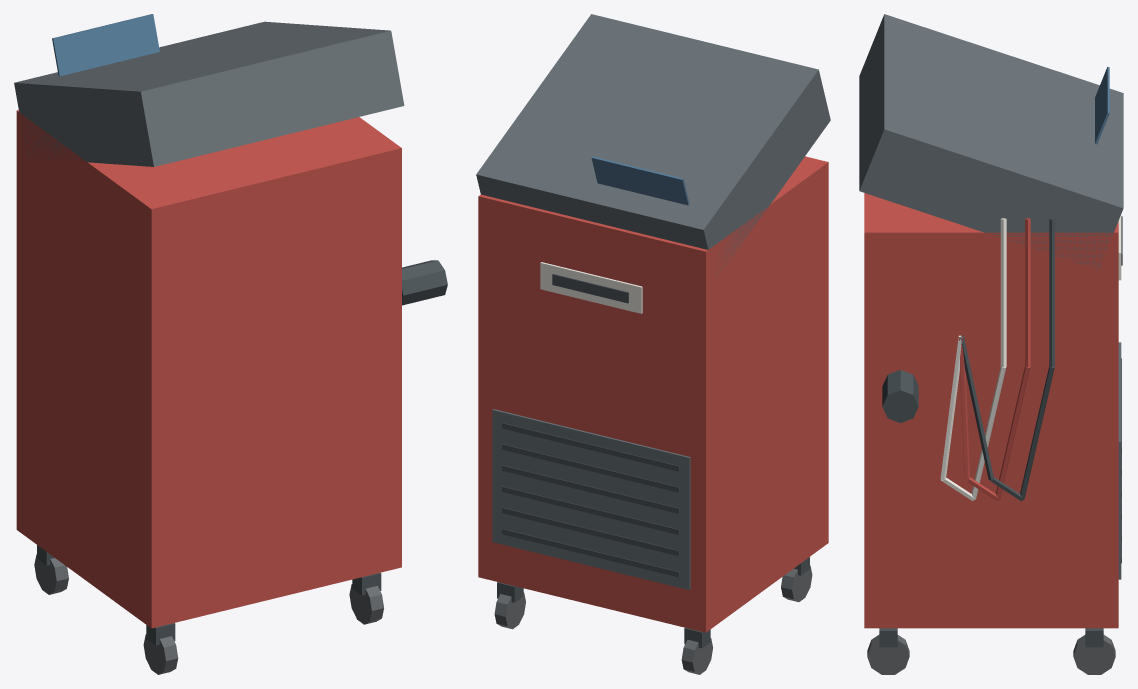
Rendered from estim_unit.fbx.
3 views of the same model, side by side, from view 1: azimuth 30°, elevation 25°; view 2: azimuth 150°, elevation 25°; view 3: azimuth 270°, elevation 25° (orthographic). The views are drawn at different scales.
Parts seen in each view (by area): view 1: estim_unit; view 2: estim_unit; view 3: estim_unit.
Boxes of the visible parts, x1=… form: estim_unit: x1=14, y1=14, x2=447, y2=674; estim_unit: x1=476, y1=14, x2=830, y2=674; estim_unit: x1=859, y1=14, x2=1123, y2=674.
Size of the model in its own units: 55 by 101 by 43.57.
